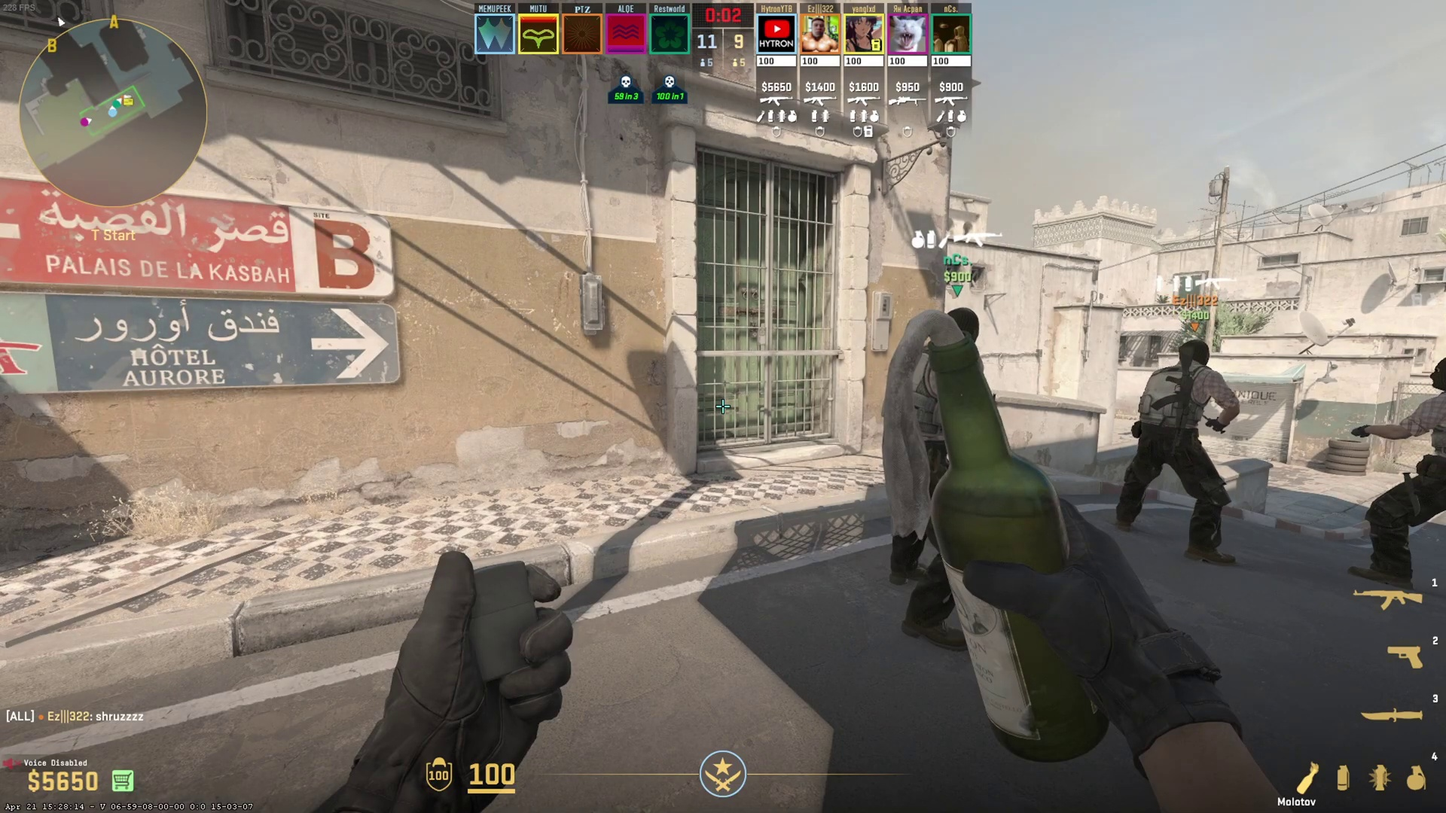Terrorist: (1133, 341, 1235, 567), (1352, 358, 1446, 581)
